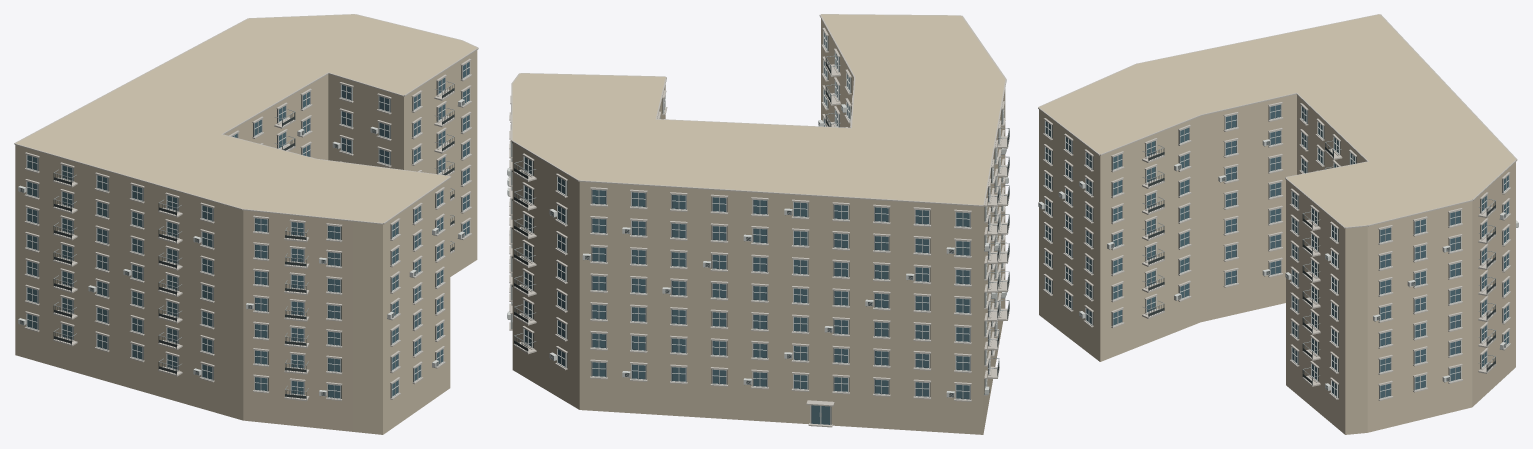
File: completion-555982512.glb
3 views of the same model, side by side, from view 1: azimuth 30°, elevation 25°; view 2: azimuth 150°, elevation 25°; view 3: azimuth 270°, elevation 25° (orthographic). The views are drawn at different scales.
Visible parts, largest first — view 1: 555982512 Block 555982512 mineral plaster, 555982512 glass, 555982512 stone, 555982512 frame, 555982512 dark, 555982512 steel; view 2: 555982512 Block 555982512 mineral plaster, 555982512 glass, 555982512 stone, 555982512 frame, 555982512 dark, 555982512 steel; view 3: 555982512 Block 555982512 mineral plaster, 555982512 stone, 555982512 frame, 555982512 glass, 555982512 dark, 555982512 steel.
Boxes of the visible parts, x1=… form: 555982512 Block 555982512 mineral plaster: x1=15, y1=14, x2=477, y2=434; 555982512 glass: x1=27, y1=62, x2=469, y2=398; 555982512 stone: x1=14, y1=14, x2=478, y2=401; 555982512 frame: x1=18, y1=61, x2=470, y2=399; 555982512 dark: x1=20, y1=65, x2=464, y2=399; 555982512 steel: x1=19, y1=81, x2=464, y2=396; 555982512 Block 555982512 mineral plaster: x1=512, y1=14, x2=1005, y2=434; 555982512 glass: x1=524, y1=33, x2=969, y2=424; 555982512 stone: x1=509, y1=14, x2=1009, y2=427; 555982512 frame: x1=507, y1=31, x2=1008, y2=425; 555982512 dark: x1=507, y1=36, x2=1009, y2=424; 555982512 steel: x1=507, y1=55, x2=1009, y2=416; 555982512 Block 555982512 mineral plaster: x1=1039, y1=14, x2=1515, y2=434; 555982512 stone: x1=1038, y1=14, x2=1517, y2=400; 555982512 frame: x1=1038, y1=104, x2=1518, y2=399; 555982512 glass: x1=1045, y1=104, x2=1508, y2=397; 555982512 dark: x1=1039, y1=107, x2=1505, y2=398; 555982512 steel: x1=1039, y1=140, x2=1517, y2=390.
Bounding box in the file's own units: 56.5 × 25.6 × 53.71.
